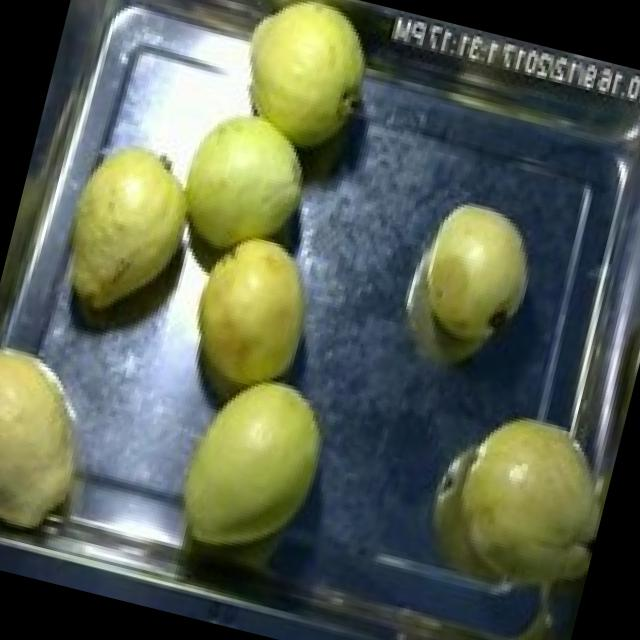Fruit: (395, 381, 624, 634), (28, 114, 220, 348), (156, 350, 350, 576), (159, 212, 339, 429), (149, 90, 326, 284), (0, 320, 124, 558), (392, 182, 551, 366), (217, 0, 384, 171)
